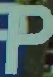Parking: (5, 3, 52, 74)
